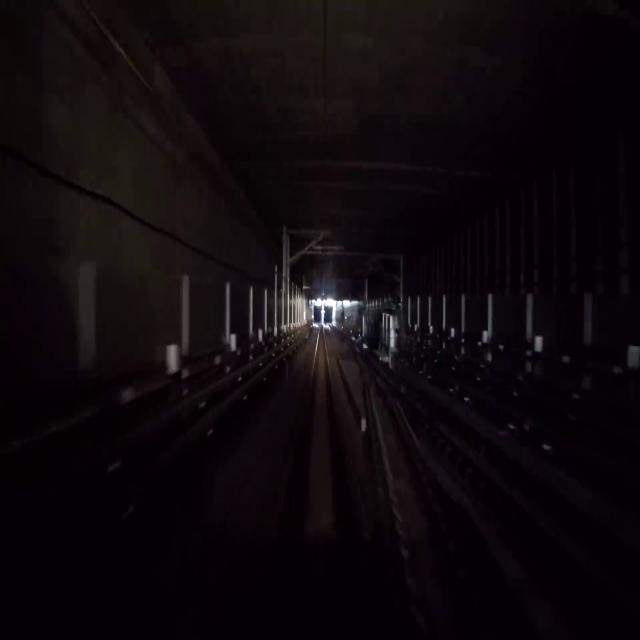rail-track: (345, 337, 638, 558), (280, 327, 362, 639), (362, 361, 437, 639)
